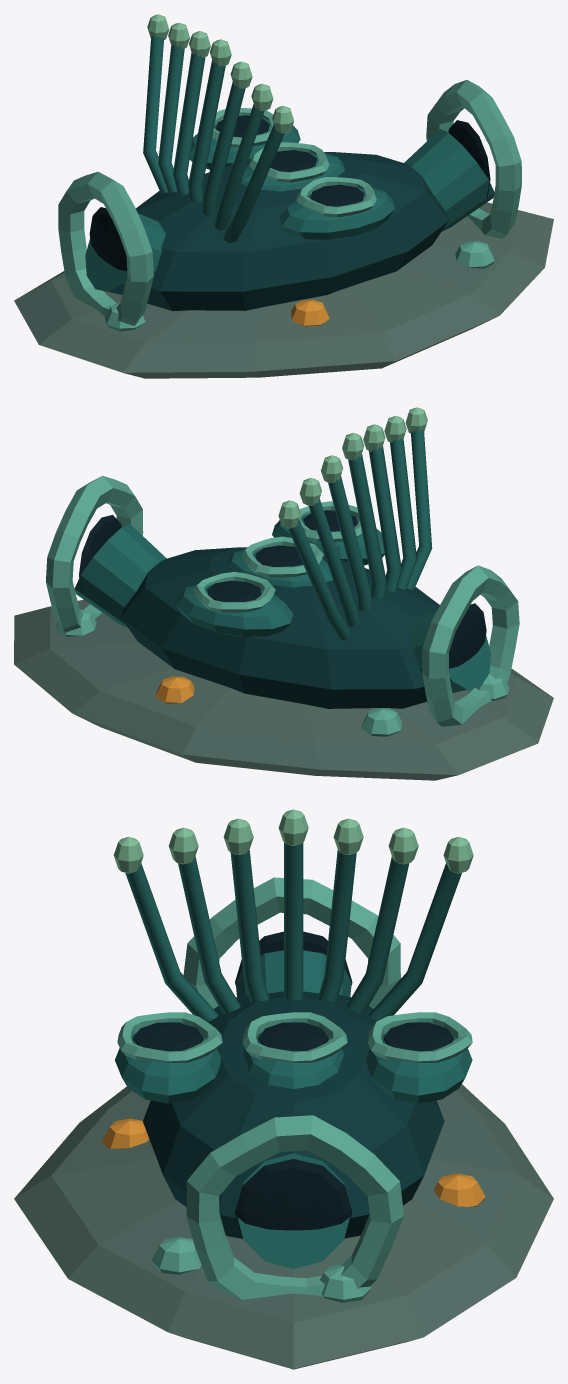
File: node_transfer_fan_a.obj
3 renders of one model, top to bottom at view 1: azimuth 30°, elevation 25°; view 2: azimuth 150°, elevation 25°; view 3: azimuth 270°, elevation 25°, orthographic. The views are drawn at different scales.
Parts seen in each view (by area): view 1: flared_footing, transfer_body, incoming_living_rim, outgoing_living_rim, outgoing_neck, cargo_cup_0, sensory_fan_rib_3, sensory_fan_rib_4, sensory_fan_rib_5, sensory_fan_rib_6, sensory_fan_rib_2, incoming_neck (+20 smaller); view 2: flared_footing, transfer_body, incoming_living_rim, outgoing_living_rim, outgoing_neck, cargo_cup_2, sensory_fan_rib_3, sensory_fan_rib_2, sensory_fan_rib_1, sensory_fan_rib_0, sensory_fan_rib_4, incoming_neck (+21 smaller); view 3: flared_footing, transfer_body, outgoing_living_rim, outgoing_hollow_throat, incoming_living_rim, outgoing_neck, cargo_cup_0, cargo_cup_2, sensory_fan_rib_0, sensory_fan_rib_6, sensory_fan_rib_3, sensory_fan_rib_1 (+23 smaller).
Boxes of the visible parts, box(x1,y1,x2,y2) form: flared_footing: box(14, 202, 553, 378); transfer_body: box(135, 152, 448, 311); incoming_living_rim: box(58, 171, 153, 325); outgoing_living_rim: box(426, 80, 521, 238); outgoing_neck: box(404, 129, 494, 231); cargo_cup_0: box(279, 187, 395, 239); sensory_fan_rib_3: box(188, 60, 225, 202); sensory_fan_rib_4: box(173, 52, 205, 196); sensory_fan_rib_5: box(158, 44, 184, 193); sensory_fan_rib_6: box(143, 36, 167, 194); sensory_fan_rib_2: box(202, 81, 245, 215); incoming_neck: box(85, 213, 165, 294); flared_footing: box(14, 599, 553, 780); transfer_body: box(121, 547, 439, 708); incoming_living_rim: box(422, 565, 519, 726); outgoing_living_rim: box(46, 475, 143, 632); outgoing_neck: box(74, 524, 166, 627); cargo_cup_2: box(175, 584, 293, 636); sensory_fan_rib_3: box(348, 454, 386, 598); sensory_fan_rib_2: box(369, 446, 401, 592); sensory_fan_rib_1: box(390, 438, 416, 589); sensory_fan_rib_0: box(407, 429, 432, 590); sensory_fan_rib_4: box(328, 476, 371, 611); incoming_neck: box(409, 609, 490, 692); flared_footing: box(14, 1084, 553, 1369); transfer_body: box(143, 991, 444, 1238); outgoing_living_rim: box(186, 1115, 403, 1299); outgoing_hollow_throat: box(235, 1158, 352, 1238); incoming_living_rim: box(183, 877, 400, 1008); outgoing_neck: box(237, 1153, 349, 1268); cargo_cup_0: box(115, 1021, 221, 1103); cargo_cup_2: box(366, 1021, 472, 1103); sensory_fan_rib_0: box(125, 863, 218, 1021); sensory_fan_rib_6: box(368, 863, 461, 1020); sensory_fan_rib_3: box(284, 842, 303, 999); sensory_fan_rib_1: box(178, 856, 240, 1013).
Bounding box in the file's own units: 3.64 × 2 × 2.5.
